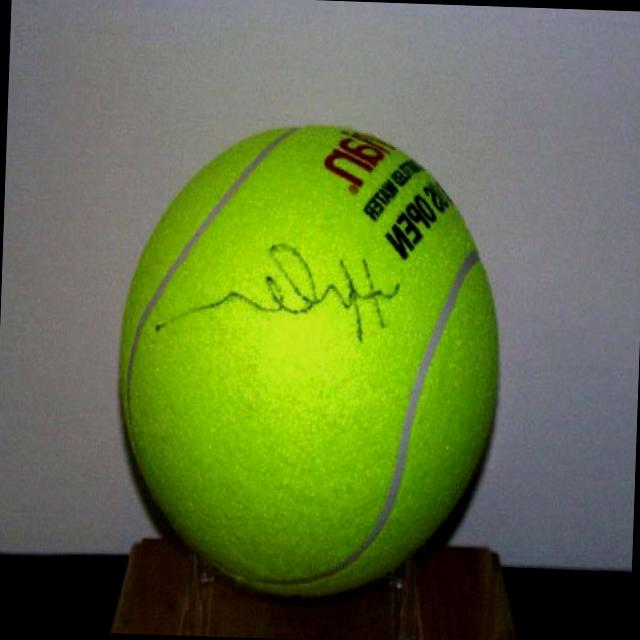Tennis Ball: (115, 124, 501, 603)
